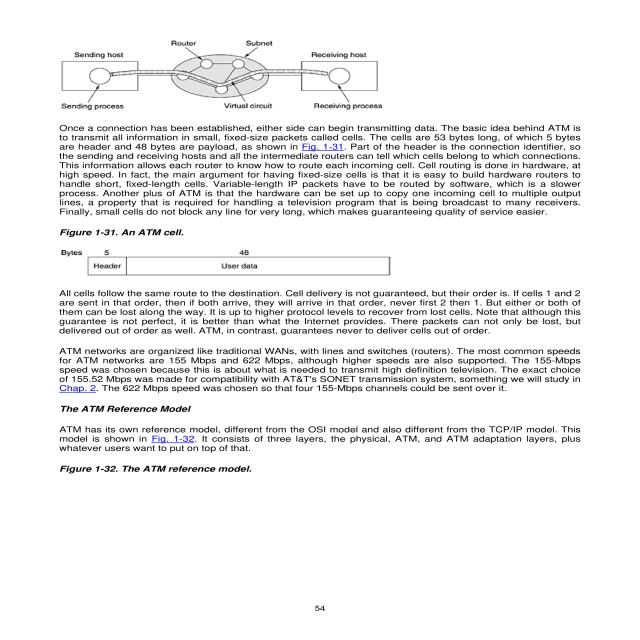diagram: (35, 10, 414, 119)
